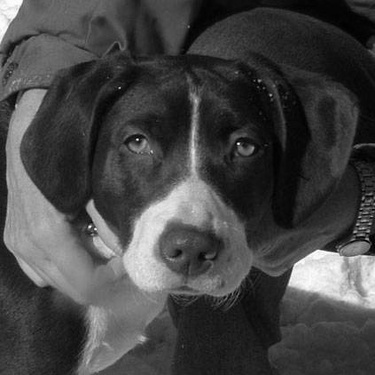dog: (13, 1, 370, 362)
